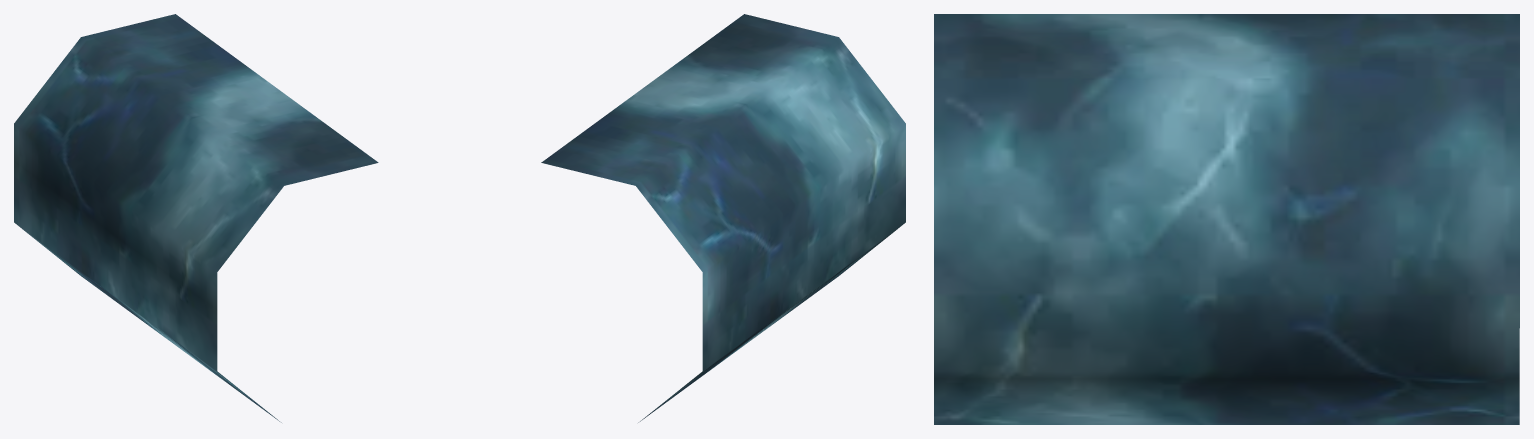
The picture shows the model from 3 angles, left to right: view 1: azimuth 30°, elevation 25°; view 2: azimuth 150°, elevation 25°; view 3: azimuth 270°, elevation 25°; orthographic projection. The views are drawn at different scales.
Visible parts, largest first — view 1: model_Object92; view 2: model_Object92; view 3: model_Object92.
Boxes of the visible parts, <box> form: model_Object92: <box>14,14,378,422</box>; model_Object92: <box>541,14,905,422</box>; model_Object92: <box>934,14,1519,424</box>.
Size of the model in its own units: 1.84 by 1.84 by 2.83.
Materials: 1 (1 with a texture image).
